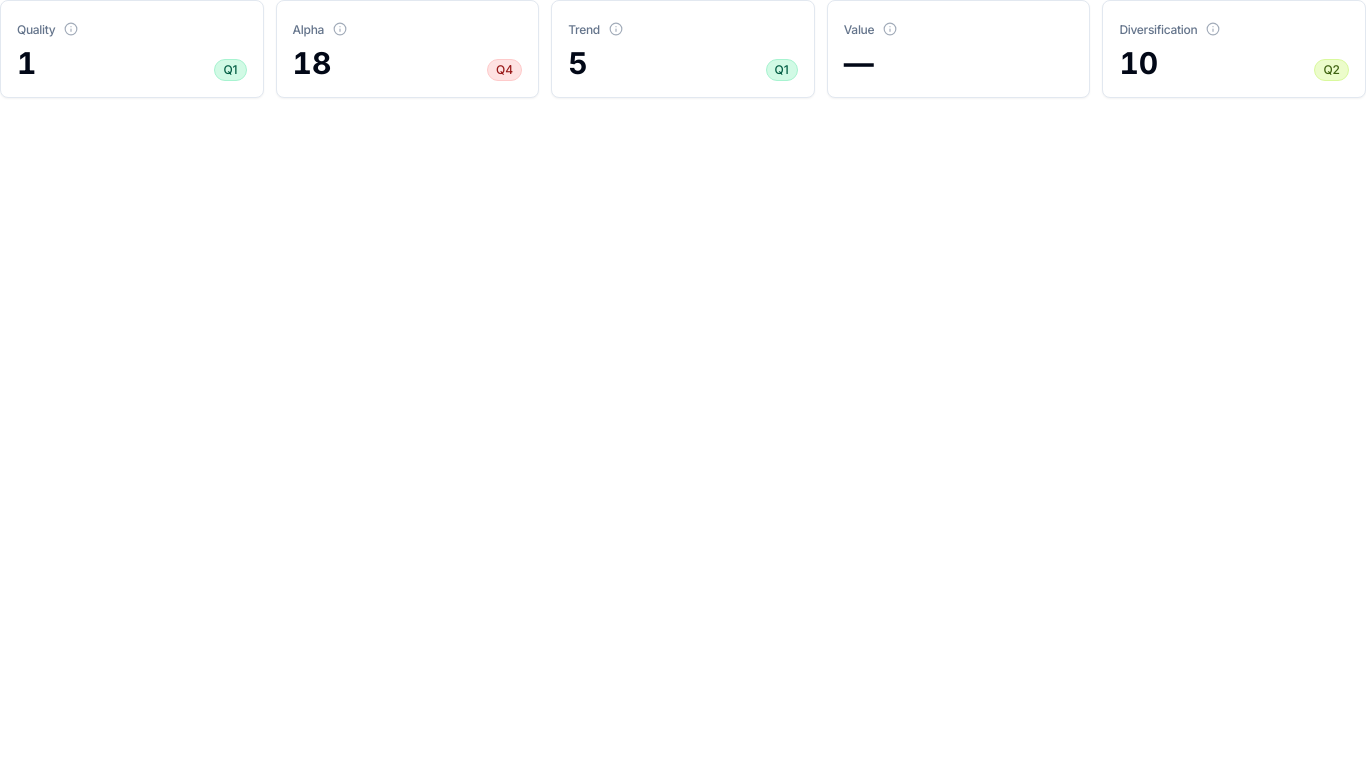
Test: ModelRankCards › Klick auf Quality-Info zeigt 8-Kennzahlen-Tooltip
Click the button named "Info zu Quality": (71, 29) [59, 17, 83, 41]
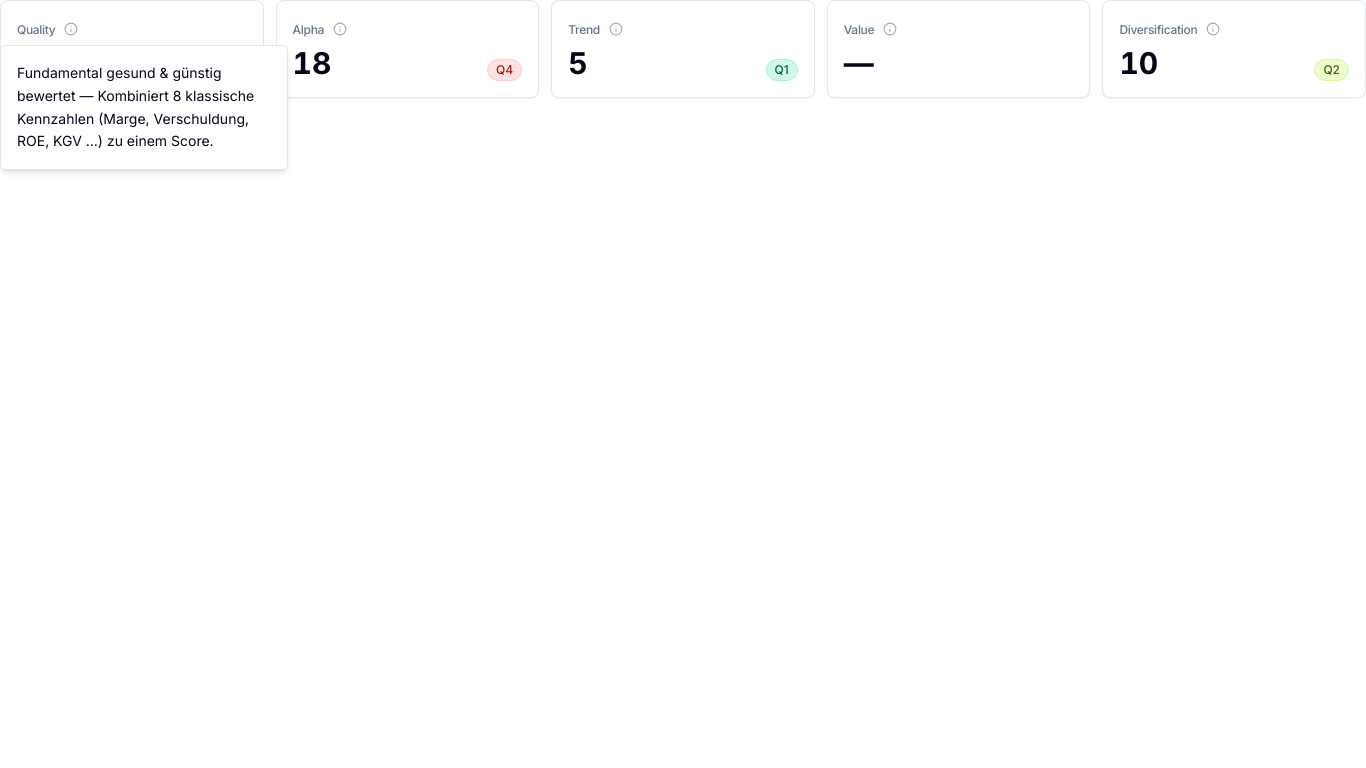
Expected: the text "8 klassische Kennzahlen" is shown, [17, 64, 254, 149]
